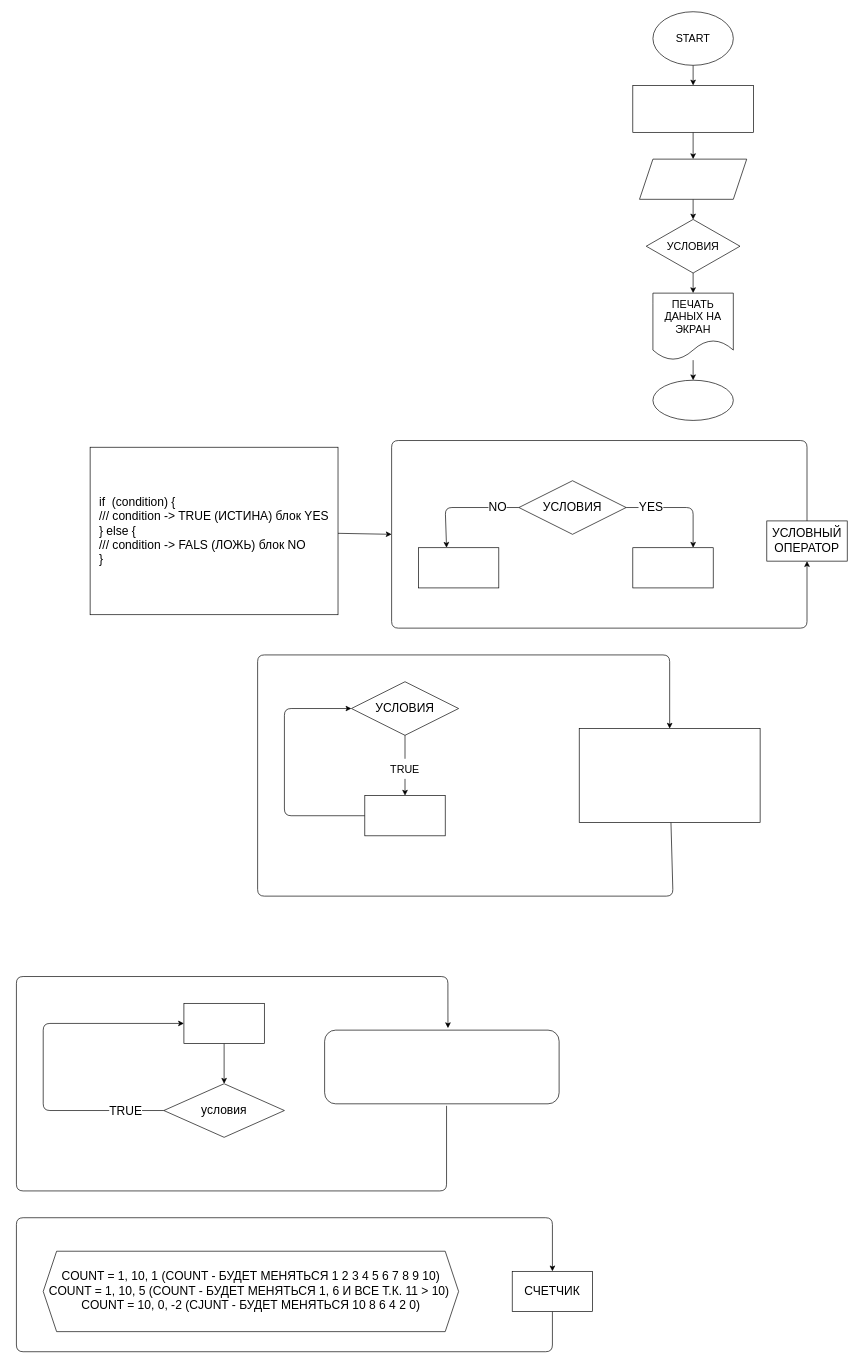
This 859x1369 diagram has some shape labels left out. Each missing label, with the box of its shape:
END: (652, 380, 733, 420)
ВВОД ДАНЫХ: (639, 158, 747, 199)
ДЕЙСТВИЕ: (632, 85, 753, 132)
ЦИКЛ - с подусловием (сначало что то делаем потом проверяем: (324, 1029, 559, 1104)
ЦИКЛ - с пред условиям (сначала провиряем условие потом делаем действия: (579, 728, 760, 822)
